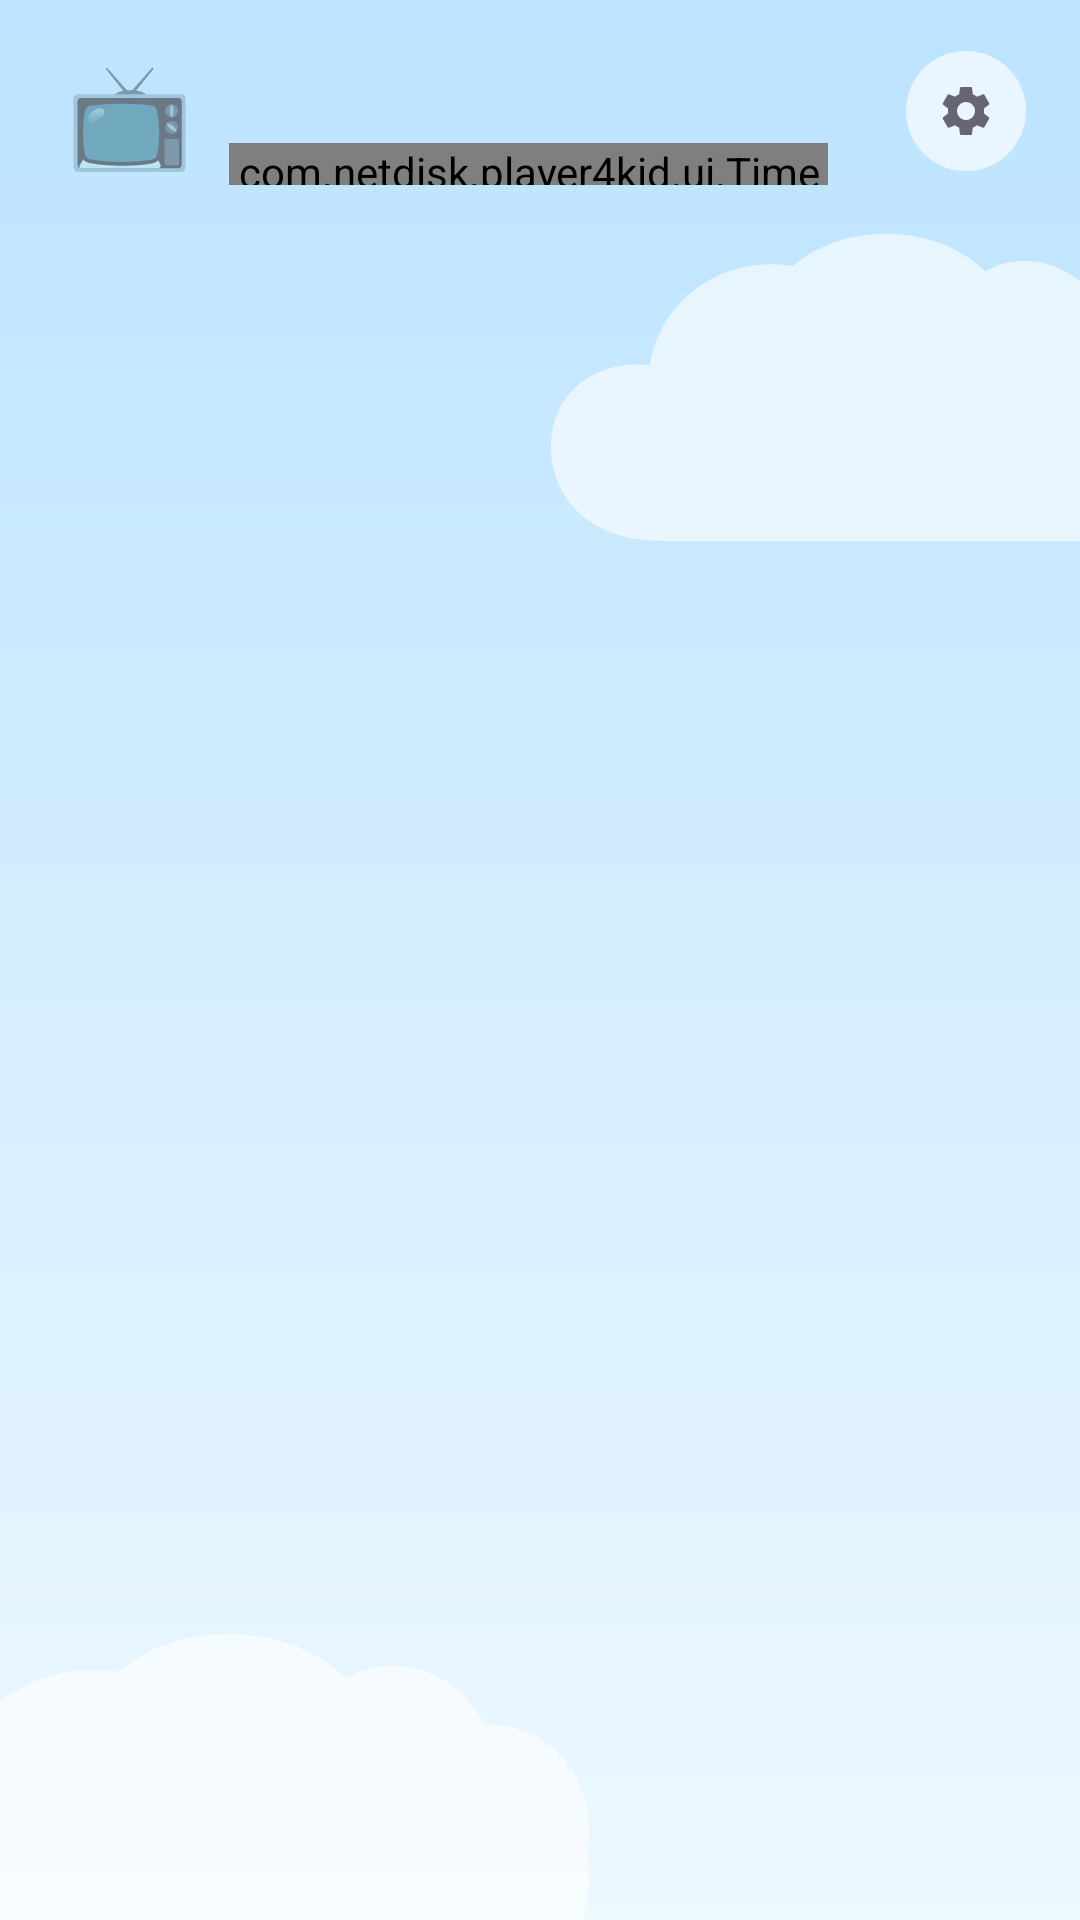

Named icons in this screenshot (1080×1920) and their bounding boxes, (x1,y1,x2,y2):
设置: (906,51,1026,171)
